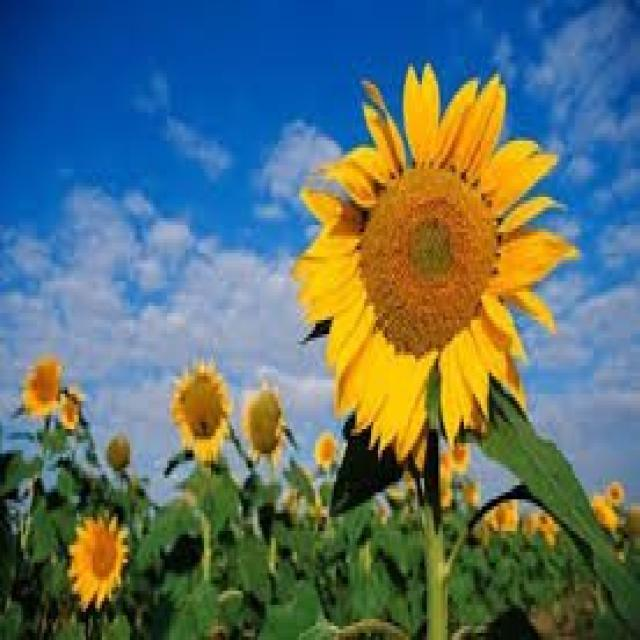sunflower: (288, 49, 586, 464), (164, 348, 233, 464), (65, 510, 134, 608), (236, 371, 294, 473), (19, 346, 67, 421), (311, 428, 338, 470)
